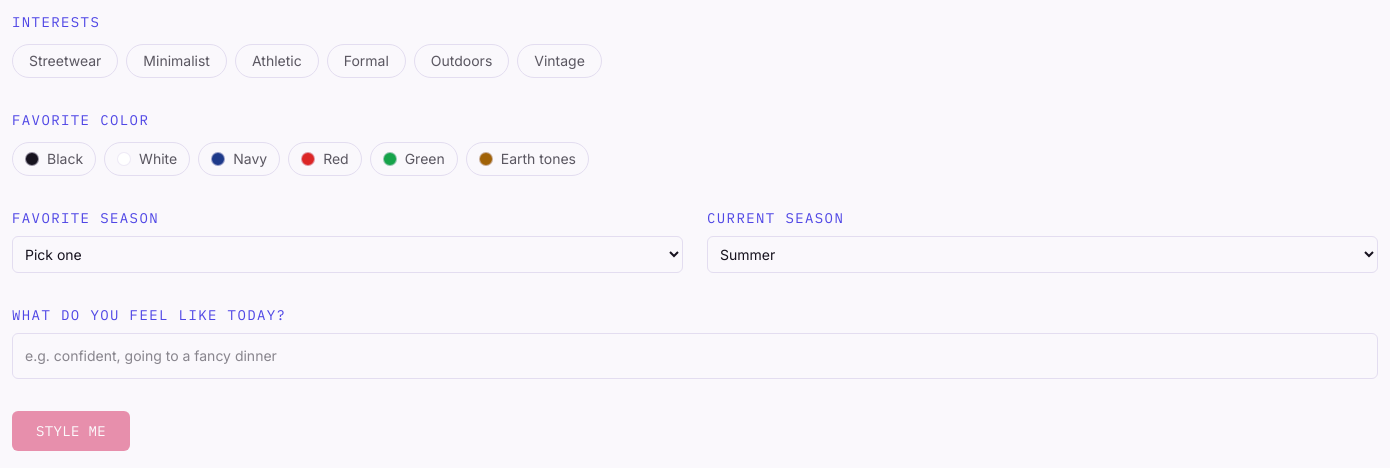
it: StyleQuiz › disables the submit button until an interest and a mood are given
Expected: the button "Style me" is disabled, [12,411,130,451]
Click the button "Streetwear".
click(65, 61)  # box [12,44,118,78]
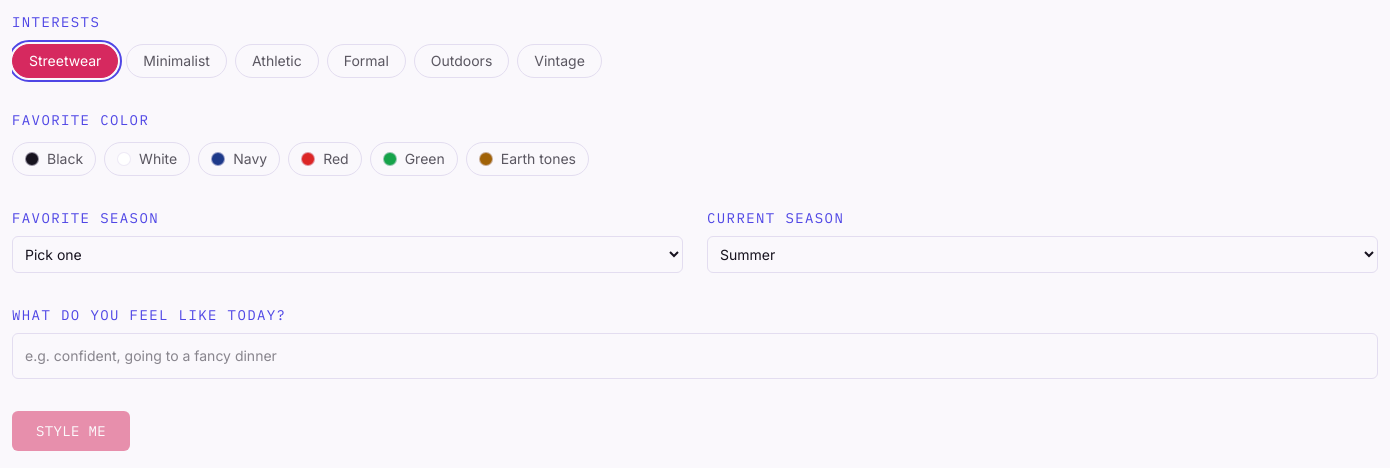
Expected: the button "Style me" is disabled, [12,411,130,451]
Type "confident" into the field with placeholder "e.g. confident, going to a fancy dinner".
click(695, 356); type("confident")  # box [12,333,1378,379]
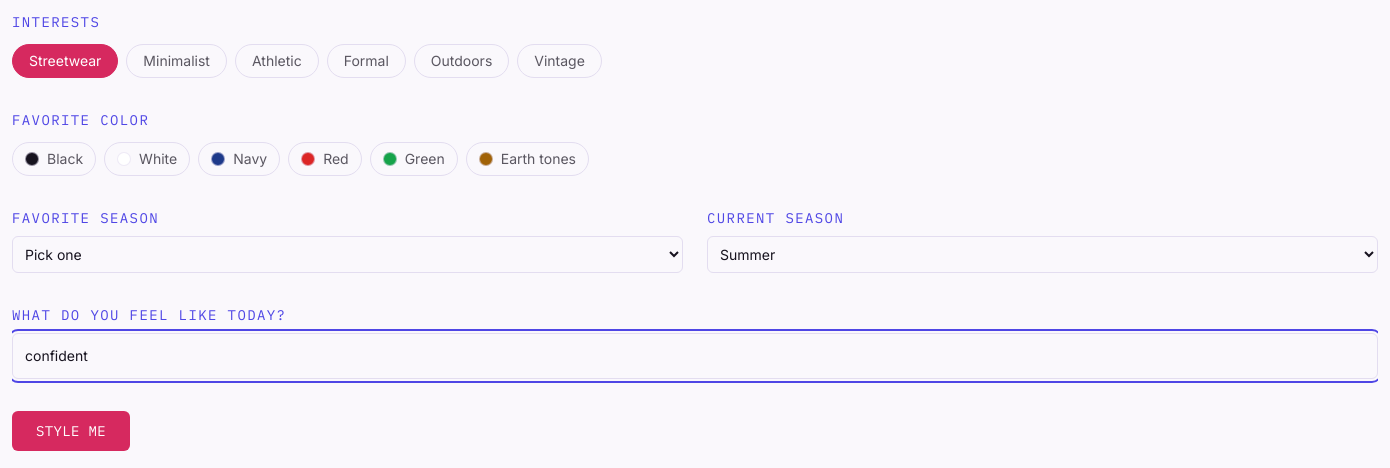
Expected: the button "Style me" is enabled, [12,411,130,451]
